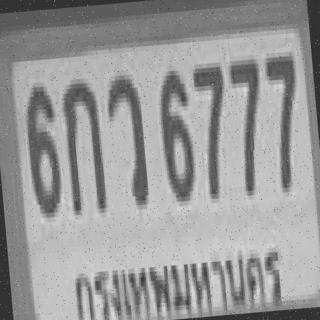A01: (59, 73, 105, 211)
A37: (104, 70, 148, 207)
N06: (154, 65, 195, 198), (22, 82, 61, 214)
N07: (190, 58, 230, 195), (227, 55, 266, 192), (263, 52, 302, 188)
P04: (65, 236, 290, 320)
